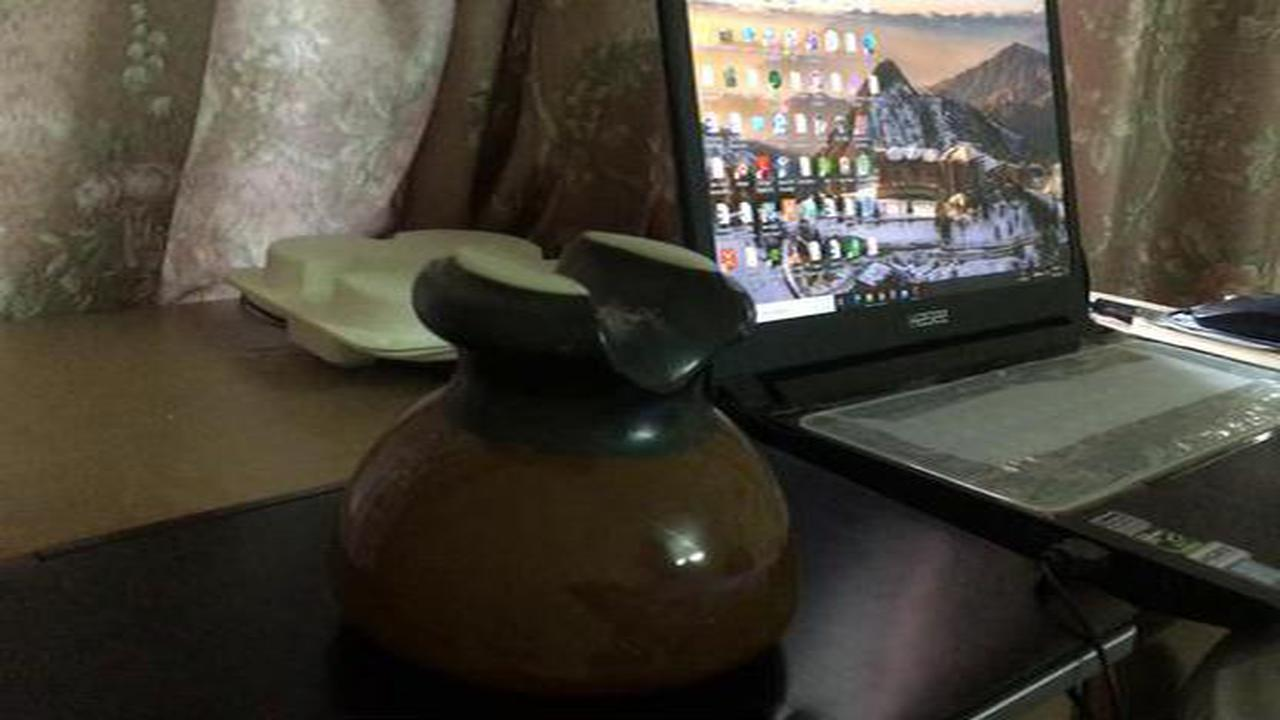insulator_pin: (317, 208, 822, 703)
